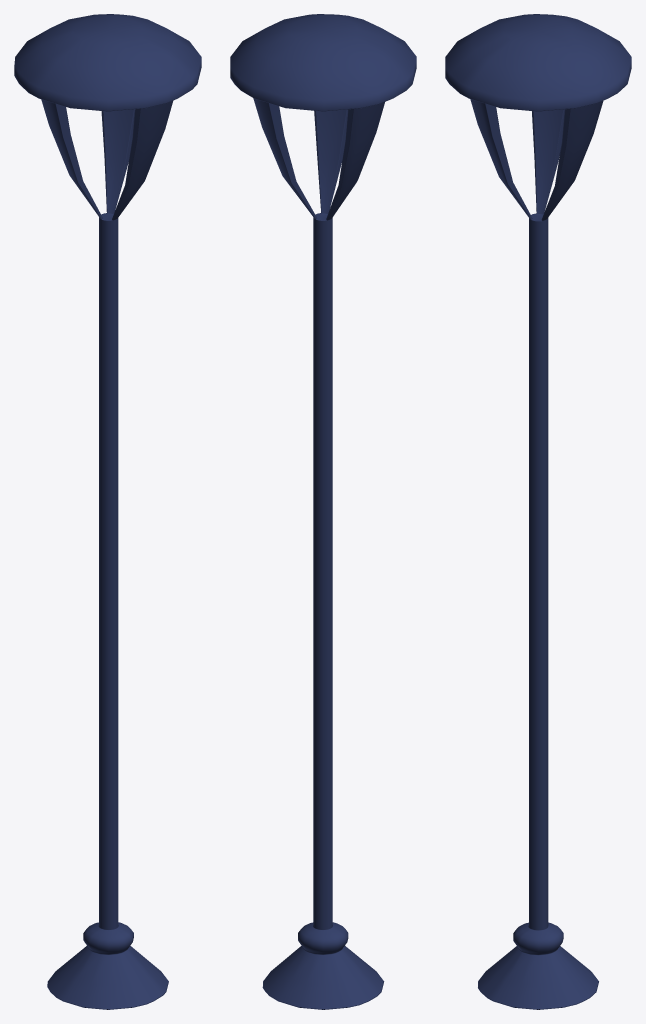
Rendered from lampadaire.fbx.
3 views of the same model, side by side, from view 1: azimuth 30°, elevation 25°; view 2: azimuth 150°, elevation 25°; view 3: azimuth 270°, elevation 25° (orthographic).
Visible parts, largest first — view 1: lampadaire; view 2: lampadaire; view 3: lampadaire.
Part boxes in pixels (box(x1,y1,x2,y2)): lampadaire: box(14, 14, 201, 1009); lampadaire: box(230, 14, 416, 1009); lampadaire: box(445, 14, 631, 1009).
Size of the model in its own units: 3.12 by 17.48 by 3.1.
